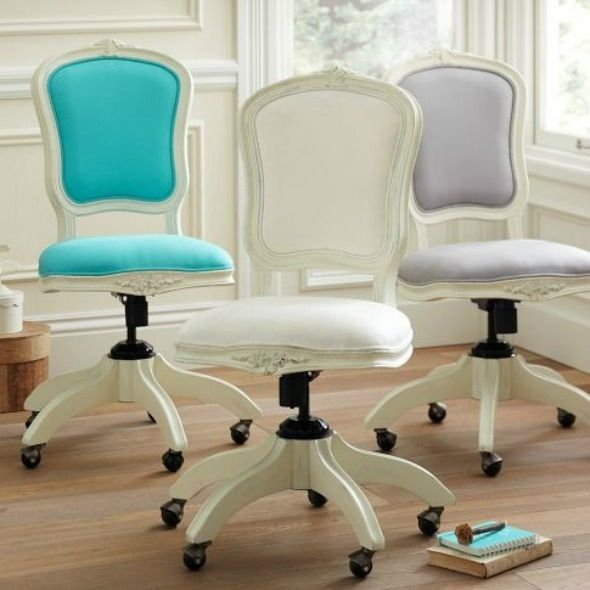chairs: (170, 66, 458, 578), (15, 34, 262, 469), (359, 43, 588, 459)
